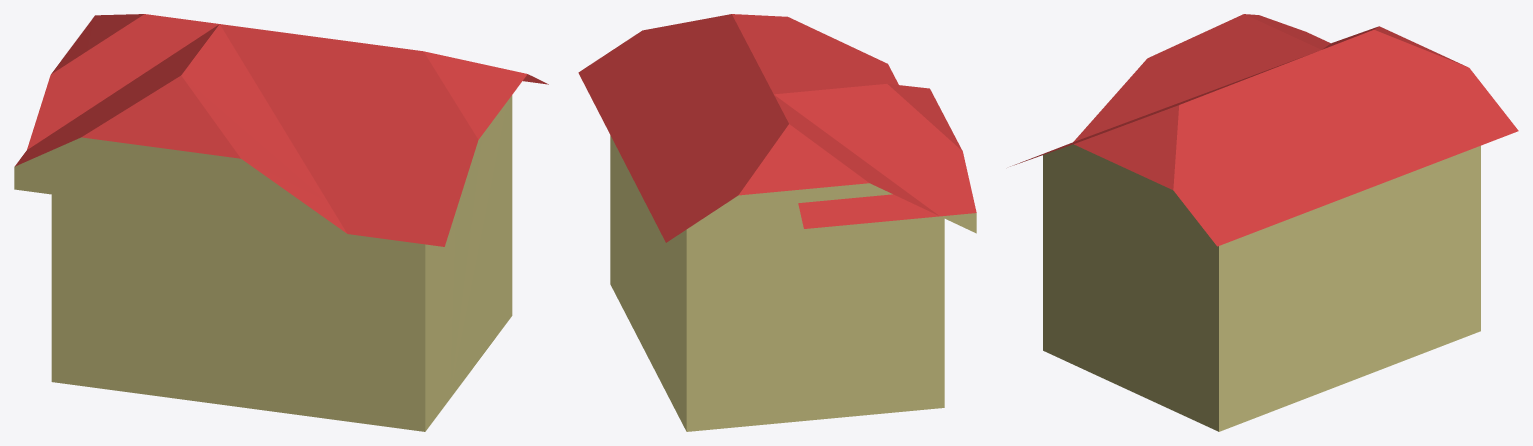
3 renders of one model, left to right at view 1: azimuth 30°, elevation 25°; view 2: azimuth 150°, elevation 25°; view 3: azimuth 270°, elevation 25°, orthographic. The views are drawn at different scales.
Size of the model in its own units: 18.95 by 19.19 by 11.46.
